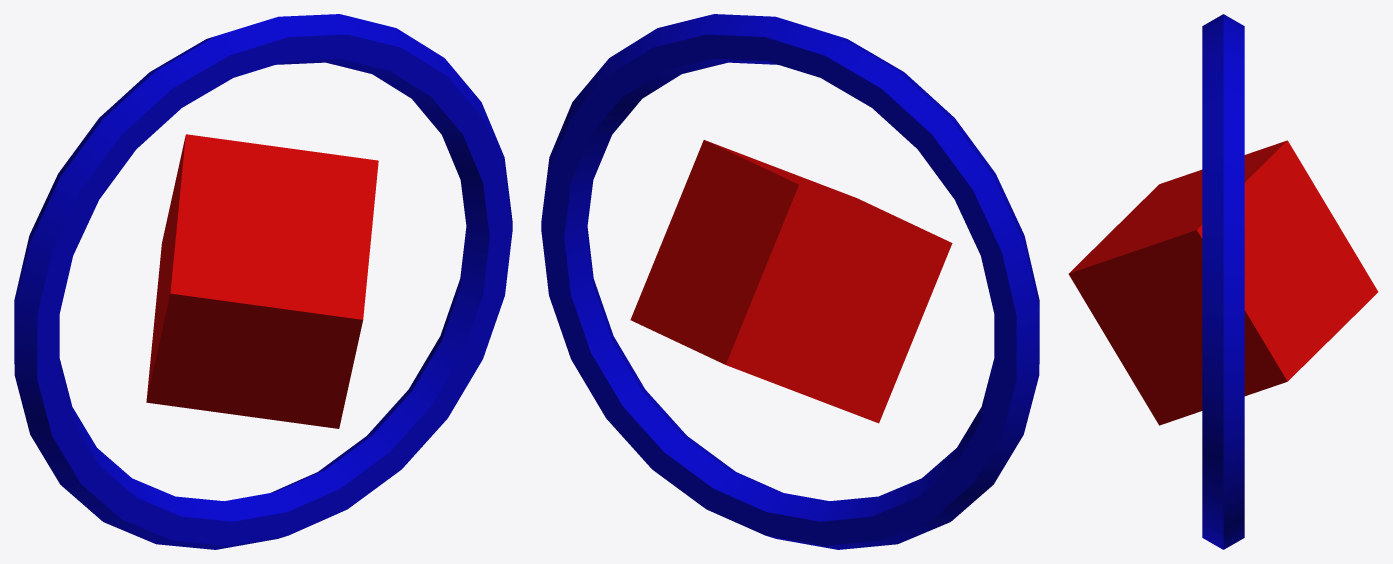
The model's file is PowerUp_SpeedBooster.fbx.
The picture shows the model from 3 angles, left to right: view 1: azimuth 30°, elevation 25°; view 2: azimuth 150°, elevation 25°; view 3: azimuth 270°, elevation 25°; orthographic projection. The views are drawn at different scales.
Parts seen in each view (by area): view 1: pTorus1, pCube1; view 2: pTorus1, pCube1; view 3: pCube1, pTorus1.
Part boxes in pixels (x1,y1,x2,y2): pTorus1: (14,14,512,549); pCube1: (146,134,378,428); pTorus1: (541,14,1039,549); pCube1: (630,140,952,423); pCube1: (1068,140,1378,425); pTorus1: (1202,14,1244,549).
Bounding box in the file's own units: 3.83 × 3.84 × 2.22.
